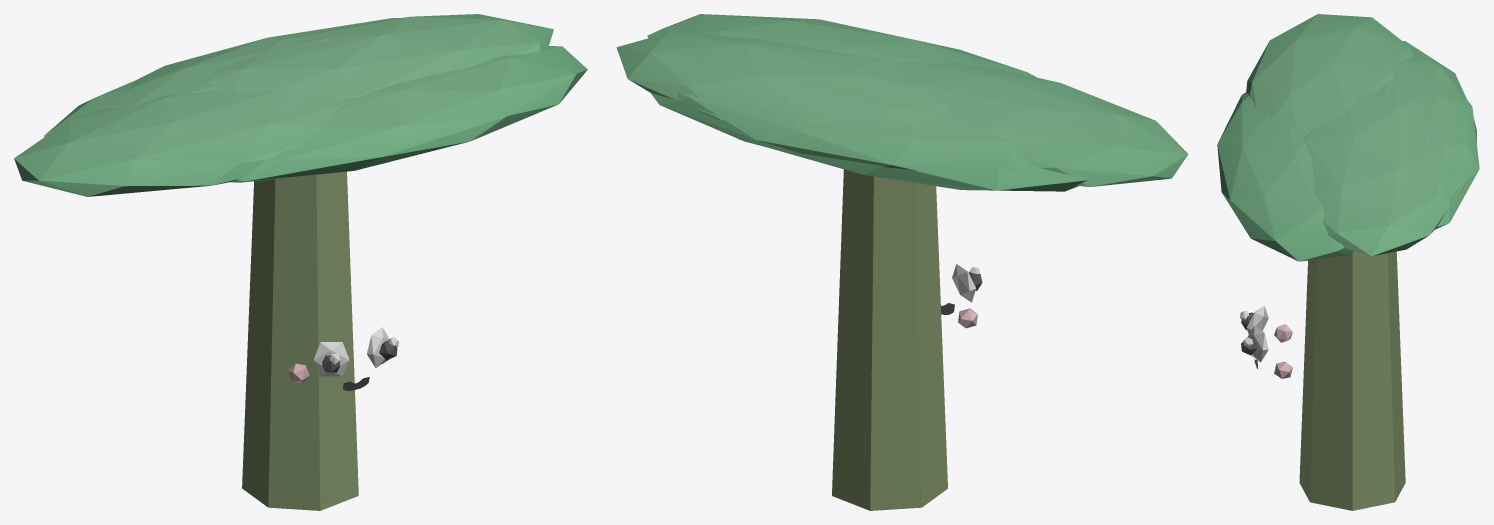
Rendered from musa-laterita.glb.
3 renders of one model, left to right at view 1: azimuth 30°, elevation 25°; view 2: azimuth 150°, elevation 25°; view 3: azimuth 270°, elevation 25°, orthographic. The views are drawn at different scales.
Parts seen in each view (by area): view 1: pseudostem, leaf2, leaf1, leaf0, leaf3, pface-eye-r, leaf4; view 2: pseudostem, leaf0, leaf2, leaf3, leaf1, leaf4; view 3: pseudostem, leaf0, leaf2, leaf1, leaf3, leaf4, pface-eye-l, pface-eye-r.
Part boxes in pixels (x1=…): pseudostem: x1=242, y1=171, x2=358, y2=510; leaf2: x1=14, y1=88, x2=347, y2=196; leaf1: x1=230, y1=45, x2=587, y2=182; leaf0: x1=196, y1=14, x2=553, y2=98; leaf3: x1=85, y1=18, x2=399, y2=108; pface-eye-r: x1=313, y1=342, x2=349, y2=376; leaf4: x1=44, y1=78, x2=139, y2=136; pseudostem: x1=832, y1=169, x2=947, y2=510; leaf0: x1=616, y1=32, x2=952, y2=124; leaf2: x1=894, y1=61, x2=1188, y2=186; leaf3: x1=651, y1=92, x2=1022, y2=171; leaf1: x1=647, y1=14, x2=1036, y2=77; leaf4: x1=738, y1=139, x2=1089, y2=191; pseudostem: x1=1299, y1=251, x2=1405, y2=510; leaf0: x1=1304, y1=89, x2=1465, y2=256; leaf2: x1=1246, y1=14, x2=1414, y2=134; leaf1: x1=1217, y1=92, x2=1353, y2=261; leaf3: x1=1379, y1=59, x2=1479, y2=229; leaf4: x1=1403, y1=41, x2=1476, y2=143; pface-eye-l: x1=1247, y1=325, x2=1268, y2=362; pface-eye-r: x1=1246, y1=306, x2=1268, y2=334.
Bounding box in the file's own units: 0.6235 × 0.446 × 0.2891.
